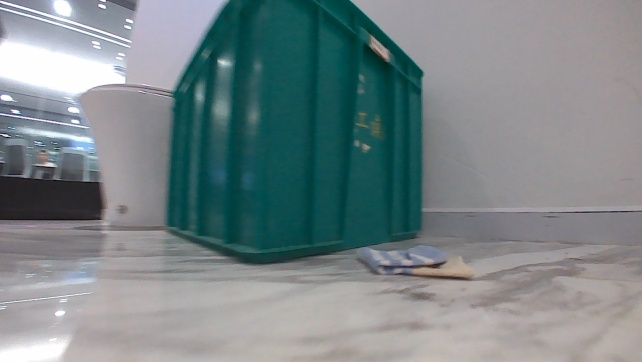socks: (354, 241, 475, 281)
toilet: (75, 76, 175, 230)
